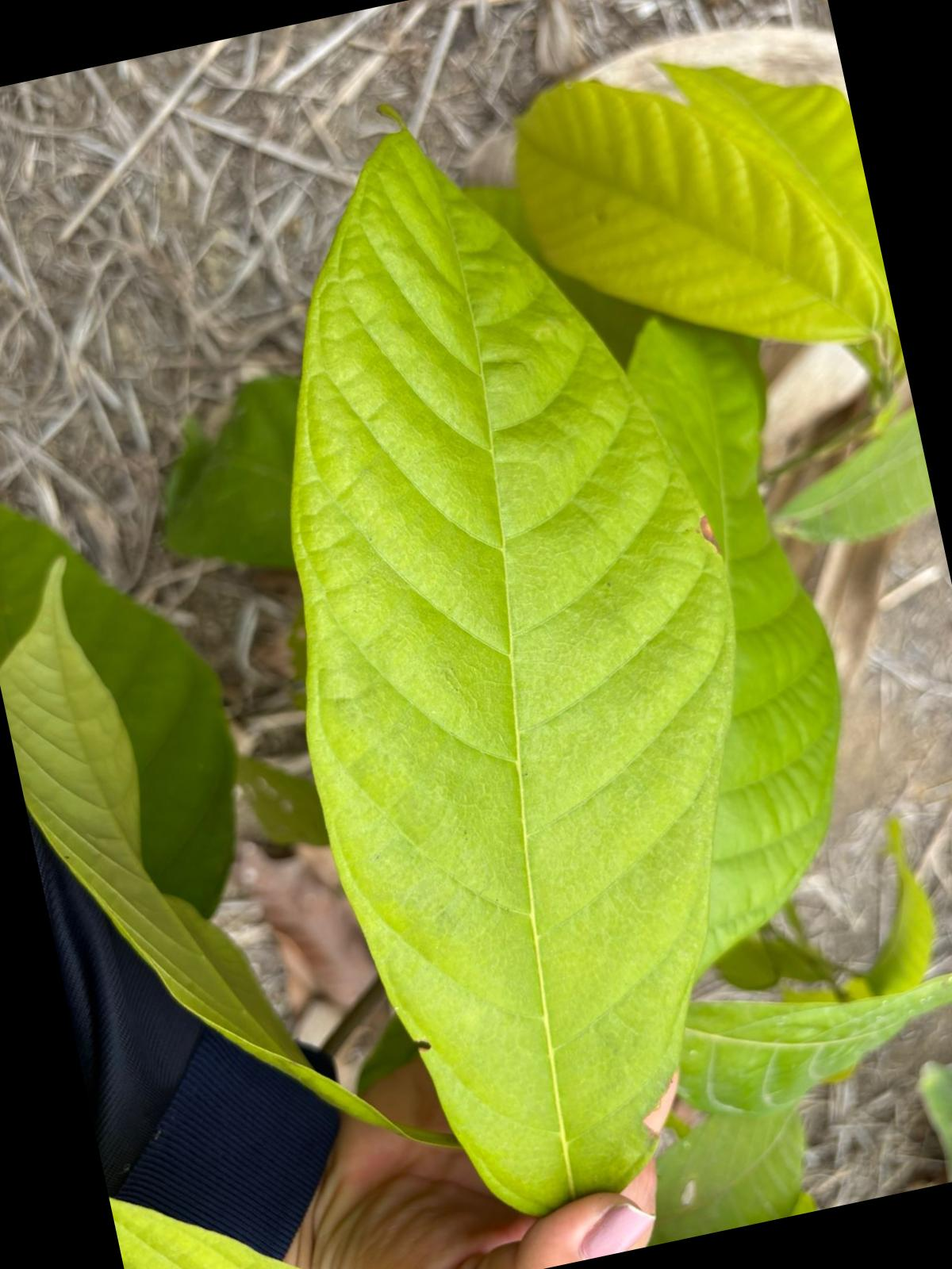Nitrogeno: (291, 128, 734, 1213)
